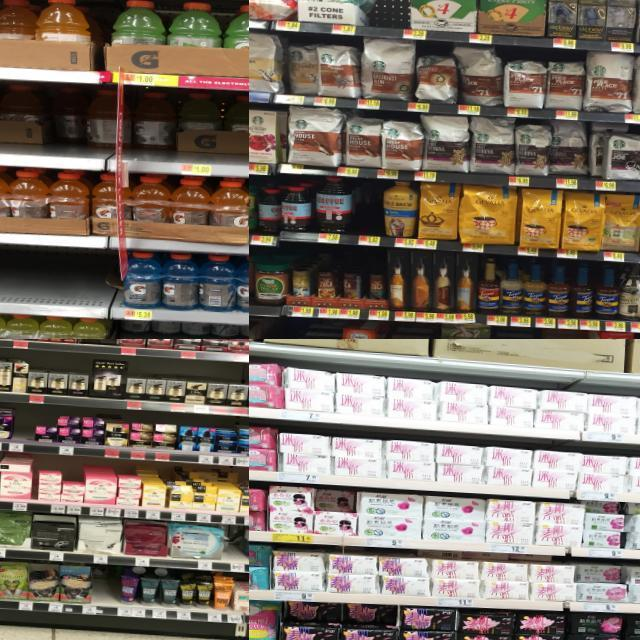empty: (0, 238, 111, 320), (374, 0, 411, 38), (364, 180, 384, 246), (14, 410, 35, 452), (229, 526, 248, 572), (262, 321, 286, 339)
